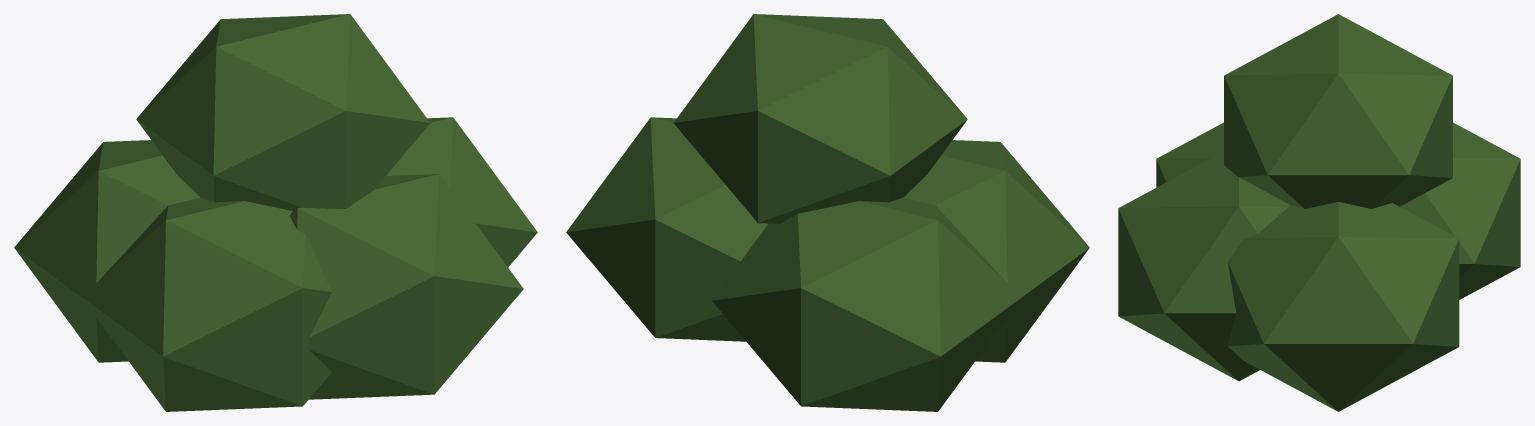
File: sitka-alder-lod1.glb
3 renders of one model, left to right at view 1: azimuth 30°, elevation 25°; view 2: azimuth 150°, elevation 25°; view 3: azimuth 270°, elevation 25°, orthographic. The views are drawn at different scales.
Parts seen in each view (by area): view 1: sitka-alder-lod1; view 2: sitka-alder-lod1; view 3: sitka-alder-lod1.
Part boxes in pixels (x1,y1,x2,y2): sitka-alder-lod1: (14, 14, 537, 411); sitka-alder-lod1: (566, 14, 1089, 411); sitka-alder-lod1: (1118, 14, 1520, 411).
Bounding box in the file's own units: 2.88 × 2.16 × 2.69.
